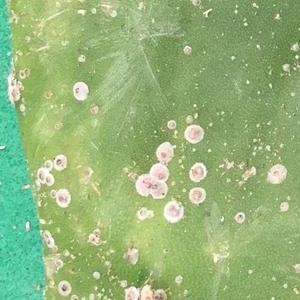Femea: (136, 175, 150, 194), (159, 144, 171, 163), (56, 191, 69, 206), (152, 180, 163, 197), (151, 167, 165, 179), (73, 84, 85, 97), (55, 156, 66, 169), (45, 172, 55, 184), (43, 158, 51, 171), (36, 171, 45, 181)
Linfa: (249, 135, 263, 157), (264, 141, 276, 158), (203, 147, 212, 155), (247, 268, 253, 274)
Macho: (198, 8, 214, 14)
